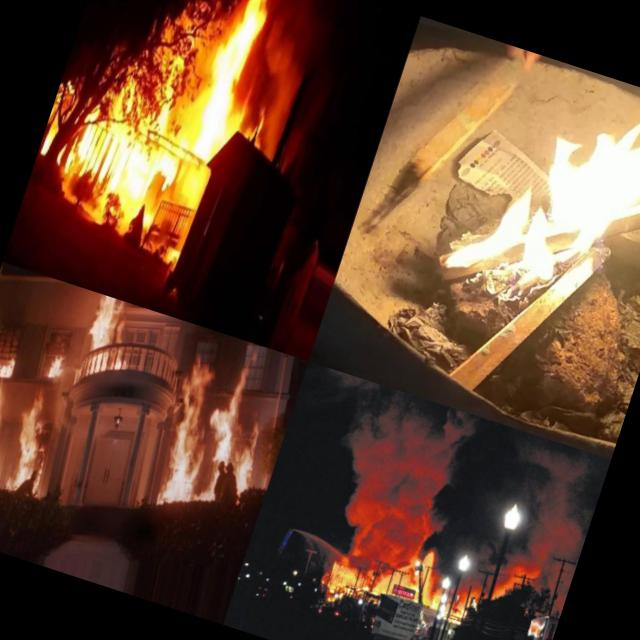fire: (468, 55, 640, 340), (145, 332, 292, 524), (184, 0, 284, 164), (72, 293, 146, 390), (0, 390, 65, 499), (318, 552, 396, 616), (231, 88, 276, 148), (407, 554, 452, 606), (0, 378, 19, 486), (436, 594, 470, 633), (43, 343, 72, 387), (0, 342, 26, 388)
smoke: (314, 408, 456, 576)
